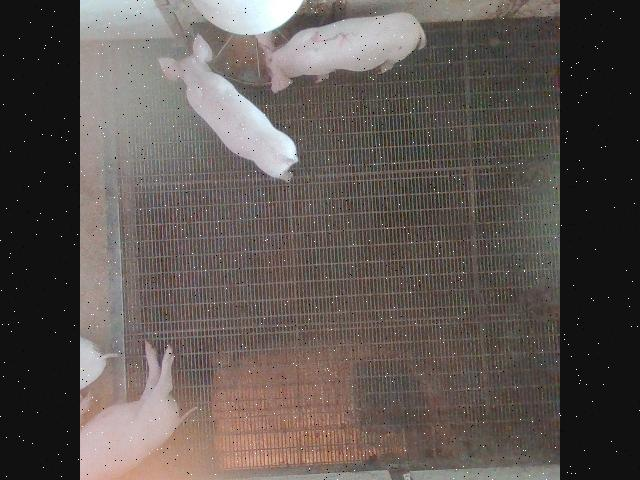pig-5: (258, 11, 426, 91)
